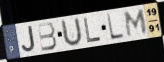B: (37, 22, 58, 53)
J: (21, 25, 37, 53)
L: (105, 12, 126, 41), (83, 17, 103, 44)
M: (124, 8, 149, 38)
U: (61, 16, 84, 49)
